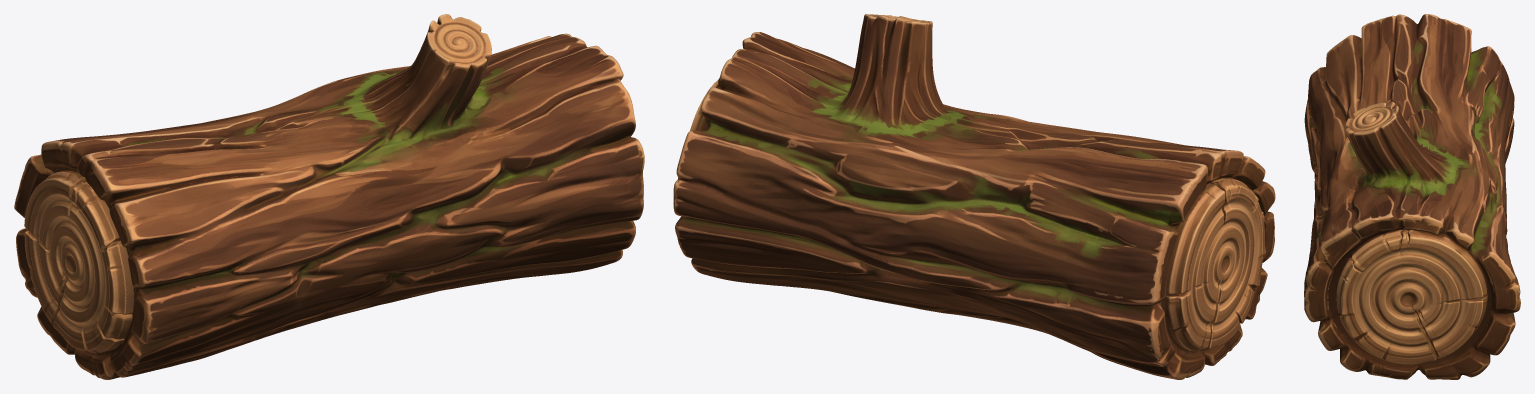
The model's file is Meshy_AI_Ancient_Verdant_Guard_0712221955_texture.fbx.
3 views of the same model, side by side, from view 1: azimuth 30°, elevation 25°; view 2: azimuth 150°, elevation 25°; view 3: azimuth 270°, elevation 25° (orthographic). The views are drawn at different scales.
Visible parts, largest first — view 1: Mesh_0; view 2: Mesh_0; view 3: Mesh_0.
Part boxes in pixels (box(x1,y1,x2,y2)): Mesh_0: box(14, 14, 644, 379); Mesh_0: box(673, 14, 1275, 379); Mesh_0: box(1304, 14, 1520, 379).
Size of the model in its own units: 190 by 96.51 by 85.31.
Materials: 1 (1 with a texture image).
